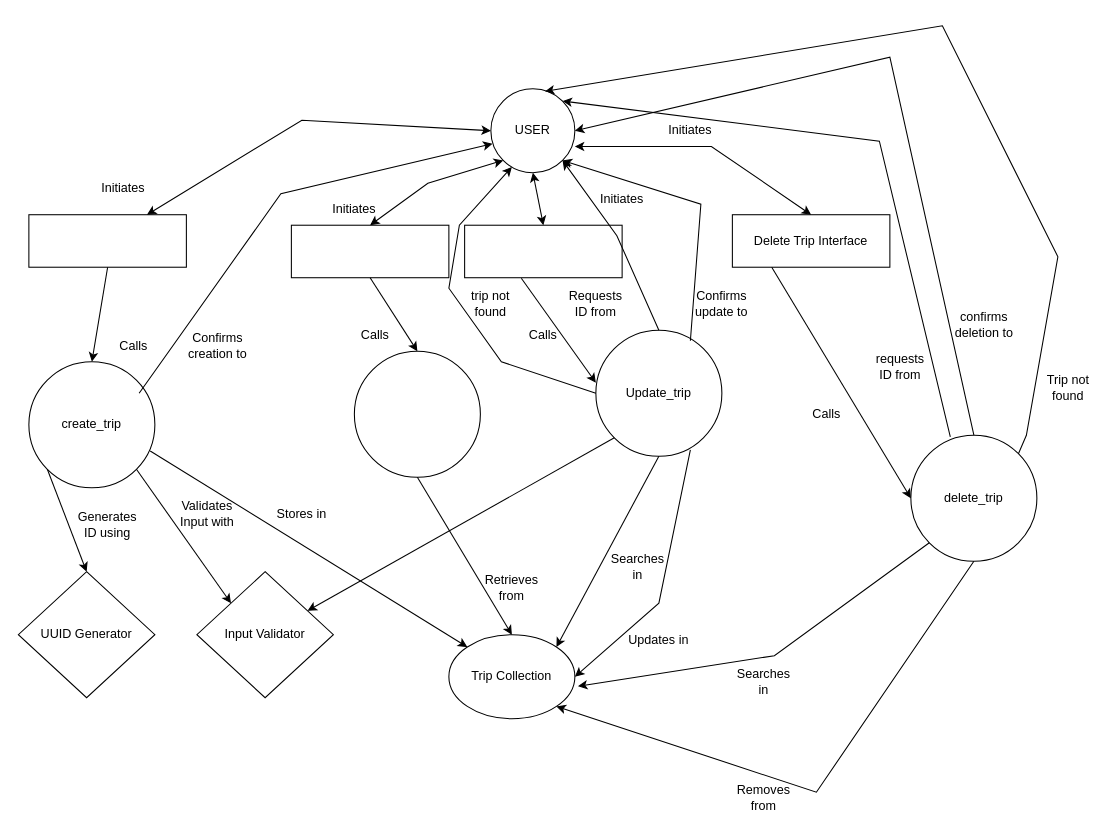
The diagram is 1118 pixels wide and 832 high, and some of its shapes have lost their labels. The shapes that lost their labels are listed below. From the top down, each one's centre as x and y in pixels, then its label:
(107,240): Create Trip Interface
(369,251): View Trip Interface
(543,251): Update Trip Interface
(416,413): View_trips
